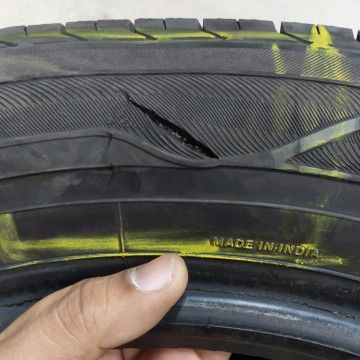cut: (123, 95, 221, 159)
